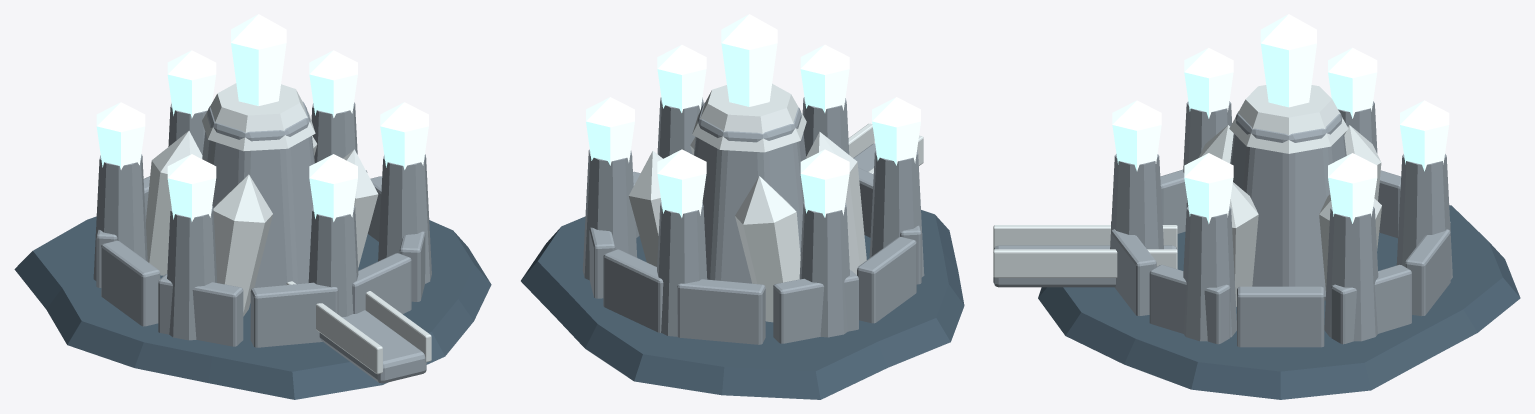
File: frozen-crown-lod1.glb
The picture shows the model from 3 angles, left to right: view 1: azimuth 30°, elevation 25°; view 2: azimuth 150°, elevation 25°; view 3: azimuth 270°, elevation 25°; orthographic projection.
Visible parts, largest first — view 1: STONE_TERRAIN_SOCKET, STONE_CENTRAL_KEEP, CRYSTAL_BUTTRESS_2, STONE_ICE_TOWER_3, STONE_GLACIER_WALL_07, TRIM_KEEP_CROWN, STONE_ICE_TOWER_5, FX_CORE_BEACON, STONE_ICE_TOWER_2, STONE_ICE_TOWER_4, STONE_GLACIER_WALL_05, STONE_GLACIER_WALL_06 (+17 smaller); view 2: STONE_TERRAIN_SOCKET, STONE_CENTRAL_KEEP, CRYSTAL_BUTTRESS_1, STONE_GLACIER_WALL_03, STONE_ICE_TOWER_2, TRIM_KEEP_CROWN, STONE_ICE_TOWER_1, FX_CORE_BEACON, STONE_ICE_TOWER_0, STONE_ICE_TOWER_3, STONE_GLACIER_WALL_05, STONE_GLACIER_WALL_02 (+16 smaller); view 3: STONE_TERRAIN_SOCKET, STONE_CENTRAL_KEEP, STONE_GLACIER_WALL_00, STONE_ICE_TOWER_0, STONE_ICE_TOWER_5, TRIM_KEEP_CROWN, FX_CORE_BEACON, STONE_ICE_TOWER_1, TRIM_BRIDGE_RAIL_1, STONE_ICE_TOWER_4, STONE_GLACIER_WALL_09, STONE_GLACIER_WALL_01 (+18 smaller).
Part boxes in pixels (x1,y1,x2,y2): STONE_TERRAIN_SOCKET: (14, 216, 491, 399); STONE_CENTRAL_KEEP: (202, 102, 314, 287); CRYSTAL_BUTTRESS_2: (213, 174, 272, 316); STONE_ICE_TOWER_3: (167, 206, 216, 340); STONE_GLACIER_WALL_07: (250, 282, 338, 347); TRIM_KEEP_CROWN: (202, 83, 315, 151); STONE_ICE_TOWER_5: (378, 154, 431, 283); FX_CORE_BEACON: (231, 14, 286, 105); STONE_ICE_TOWER_2: (93, 154, 147, 280); STONE_ICE_TOWER_4: (308, 206, 358, 316); STONE_GLACIER_WALL_05: (101, 240, 160, 326); STONE_GLACIER_WALL_06: (158, 274, 243, 346); STONE_TERRAIN_SOCKET: (521, 210, 964, 399); STONE_CENTRAL_KEEP: (694, 102, 806, 283); CRYSTAL_BUTTRESS_1: (735, 176, 800, 322); STONE_GLACIER_WALL_03: (677, 279, 765, 344); STONE_ICE_TOWER_2: (799, 202, 849, 337); TRIM_KEEP_CROWN: (692, 83, 806, 152); STONE_ICE_TOWER_1: (657, 202, 707, 336); FX_CORE_BEACON: (721, 14, 777, 106); STONE_ICE_TOWER_0: (582, 149, 637, 280); STONE_ICE_TOWER_3: (869, 149, 924, 277); STONE_GLACIER_WALL_05: (857, 237, 916, 323); STONE_GLACIER_WALL_02: (603, 249, 663, 332); STONE_TERRAIN_SOCKET: (1038, 205, 1520, 399); STONE_CENTRAL_KEEP: (1230, 111, 1346, 300); STONE_GLACIER_WALL_00: (1237, 286, 1324, 347); STONE_ICE_TOWER_0: (1324, 206, 1378, 341); STONE_ICE_TOWER_5: (1183, 206, 1236, 341); TRIM_KEEP_CROWN: (1229, 85, 1348, 153); FX_CORE_BEACON: (1260, 14, 1316, 107); STONE_ICE_TOWER_1: (1396, 154, 1452, 279); TRIM_BRIDGE_RAIL_1: (993, 249, 1177, 277); STONE_ICE_TOWER_4: (1110, 154, 1163, 249); STONE_GLACIER_WALL_09: (1149, 264, 1230, 344); STONE_GLACIER_WALL_01: (1331, 264, 1411, 344).
Bounding box in the file's own units: 1.73 × 1.16 × 1.94.
